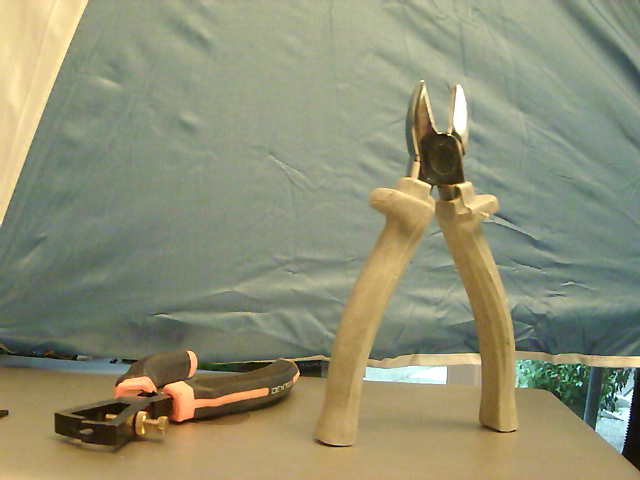pliers: (316, 77, 523, 453)
